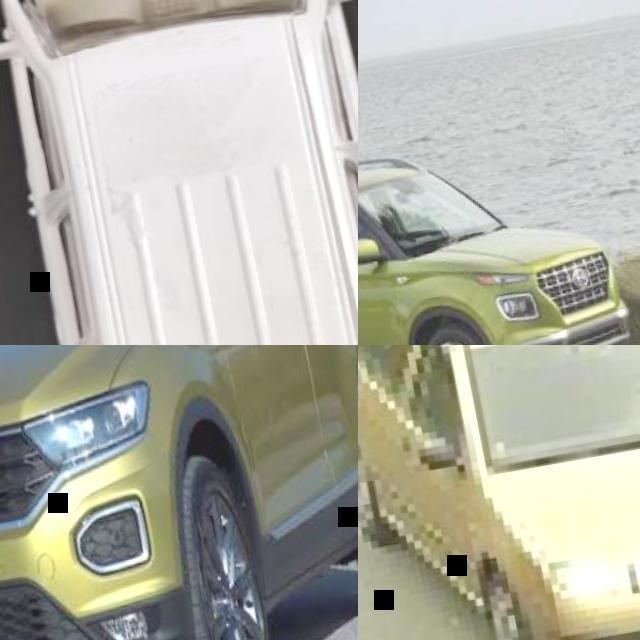car: (0, 367, 264, 639)
